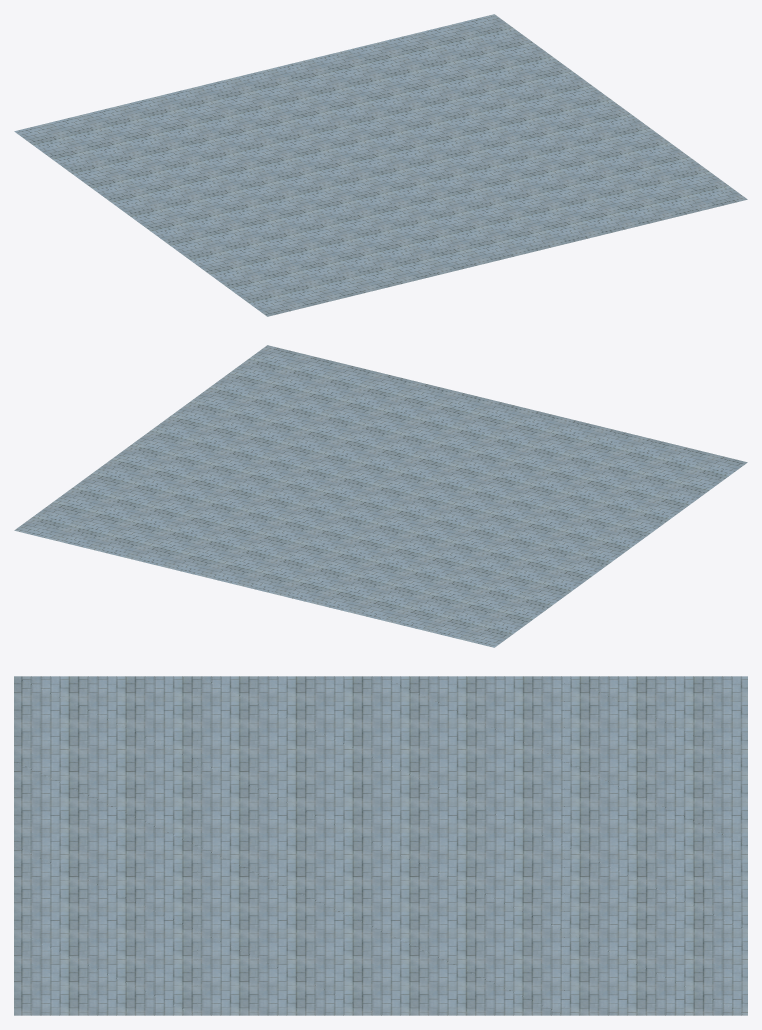
The model's file is ground.FBX.
The picture shows the model from 3 angles, top to bottom: view 1: azimuth 30°, elevation 25°; view 2: azimuth 150°, elevation 25°; view 3: azimuth 270°, elevation 25°; orthographic projection. The views are drawn at different scales.
Parts seen in each view (by area): view 1: Plane001; view 2: Plane001; view 3: Plane001.
Part boxes in pixels (bbox=[...]): Plane001: bbox=[14, 14, 747, 316]; Plane001: bbox=[14, 345, 747, 647]; Plane001: bbox=[14, 676, 747, 1015].
Size of the model in its own units: 6348 by 5799 by 0.
1 material, 1 textured.
